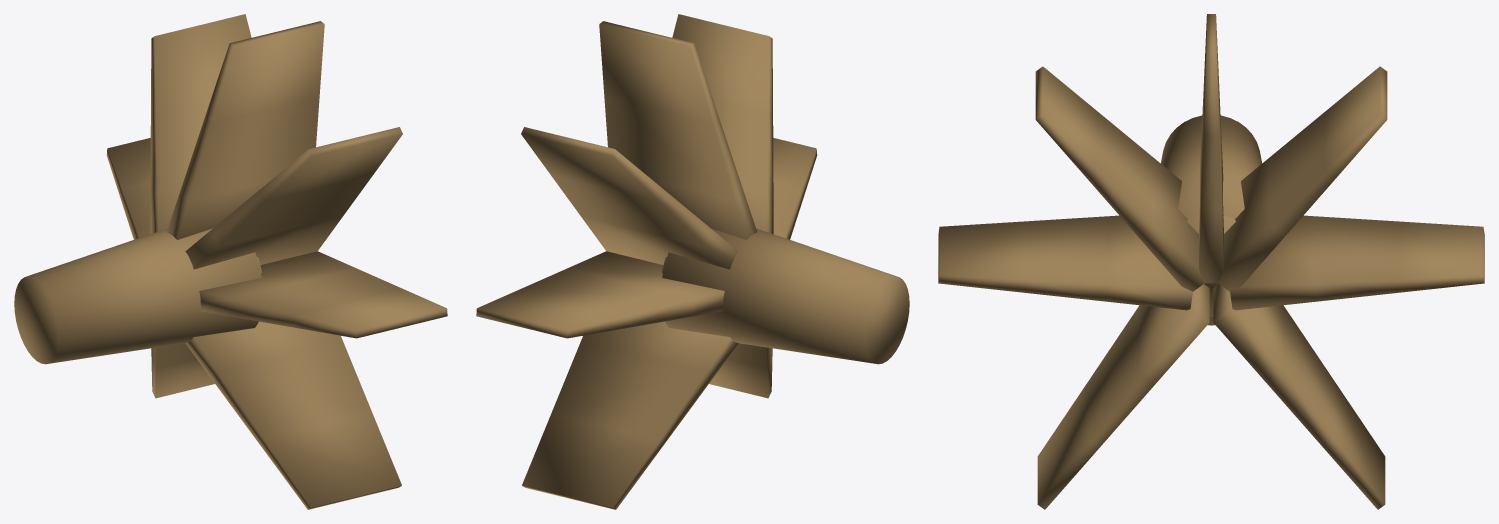
Rendered from FR_SSBN_LeRedoutable_PROPULSOR_01.fbx.
3 renders of one model, left to right at view 1: azimuth 30°, elevation 25°; view 2: azimuth 150°, elevation 25°; view 3: azimuth 270°, elevation 25°, orthographic. The views are drawn at different scales.
Parts seen in each view (by area): view 1: FR_SSBN_LeRedoutable_PROPULSOR_01; view 2: FR_SSBN_LeRedoutable_PROPULSOR_01; view 3: FR_SSBN_LeRedoutable_PROPULSOR_01.
Boxes of the visible parts, x1,y1,x2,y2 form: FR_SSBN_LeRedoutable_PROPULSOR_01: (14,14,447,509); FR_SSBN_LeRedoutable_PROPULSOR_01: (476,14,909,509); FR_SSBN_LeRedoutable_PROPULSOR_01: (938,14,1484,509).
Size of the model in its own units: 2.2 by 3.33 by 3.01.
